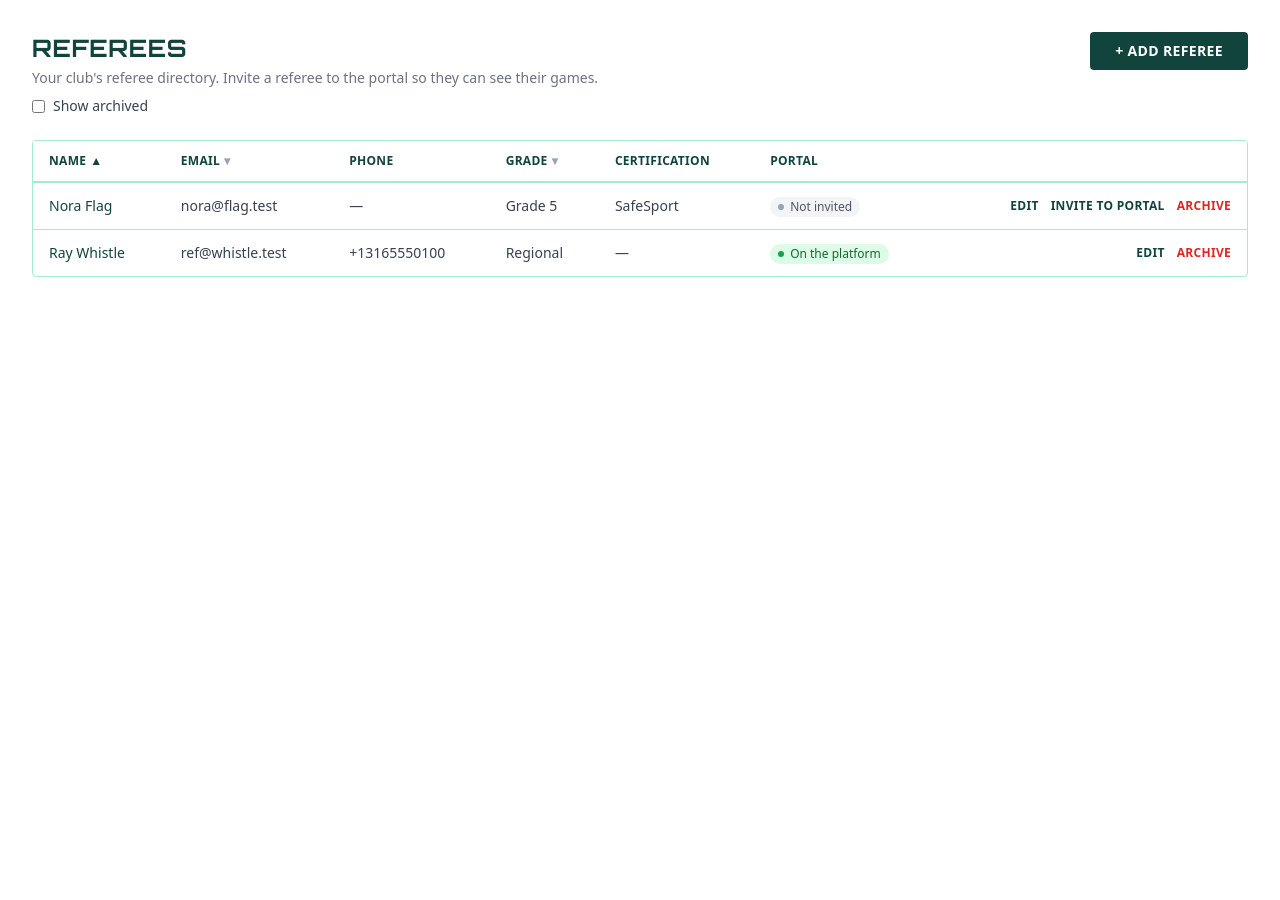
it: Referees directory page › lists the club with name, email, phone, grade and portal status, and adds a referee with an invite
This screenshot has width=1280, height=900.
Expected: the text "Ray Whistle" is shown, [49,243,125,262]
Expected: the text "ref@whistle.test" is shown, [181,243,287,262]
Click the button "+ Add Referee" at (1169, 51), box [1090,32,1248,70]
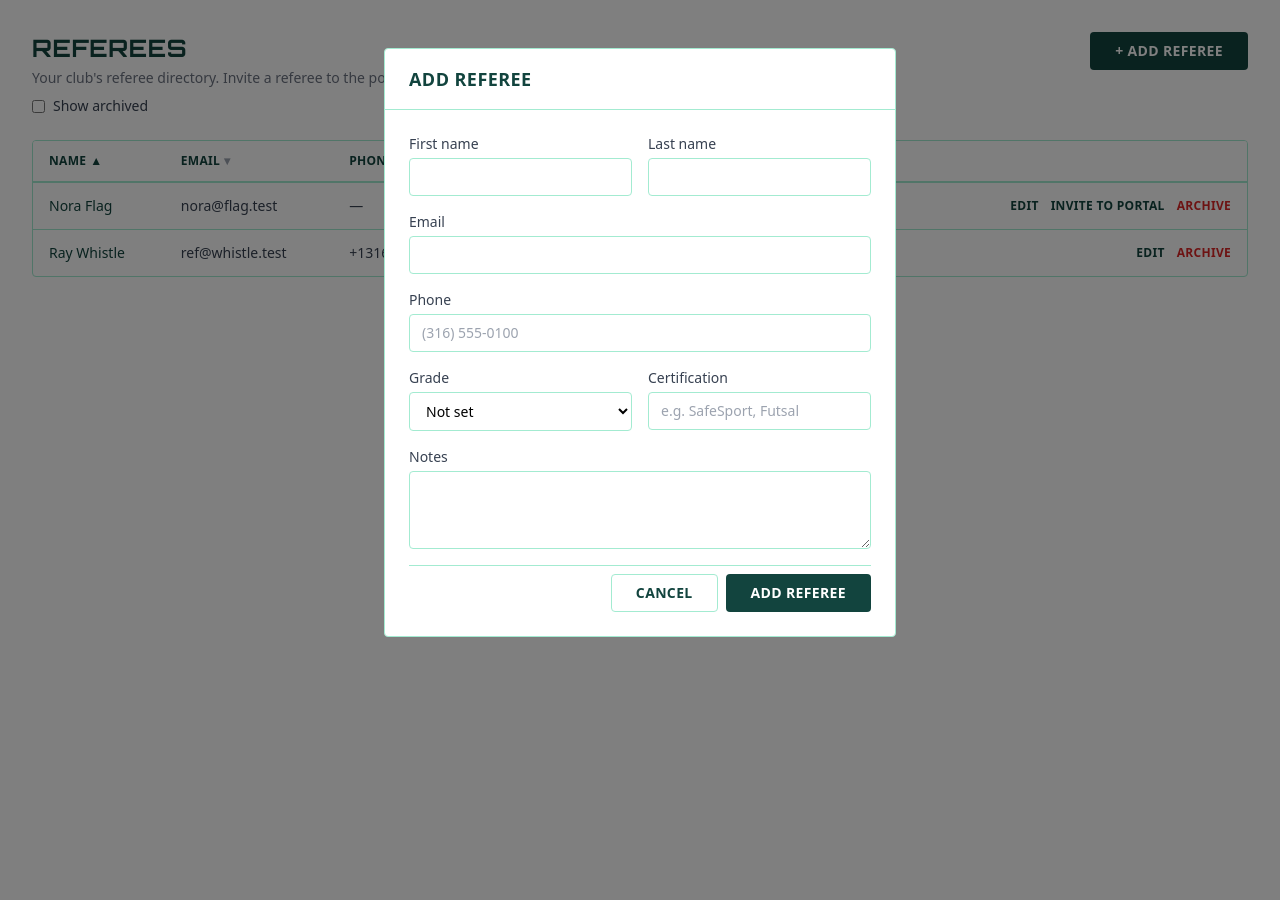
Type "Sam" into the field labelled "First name" at (520, 177), box [409,158,632,196]
Type "Line" into the field labelled "Last name" at (760, 177), box [648,158,871,196]
Type "sam@line.test" into the field labelled "Email" at (640, 255), box [409,236,871,274]
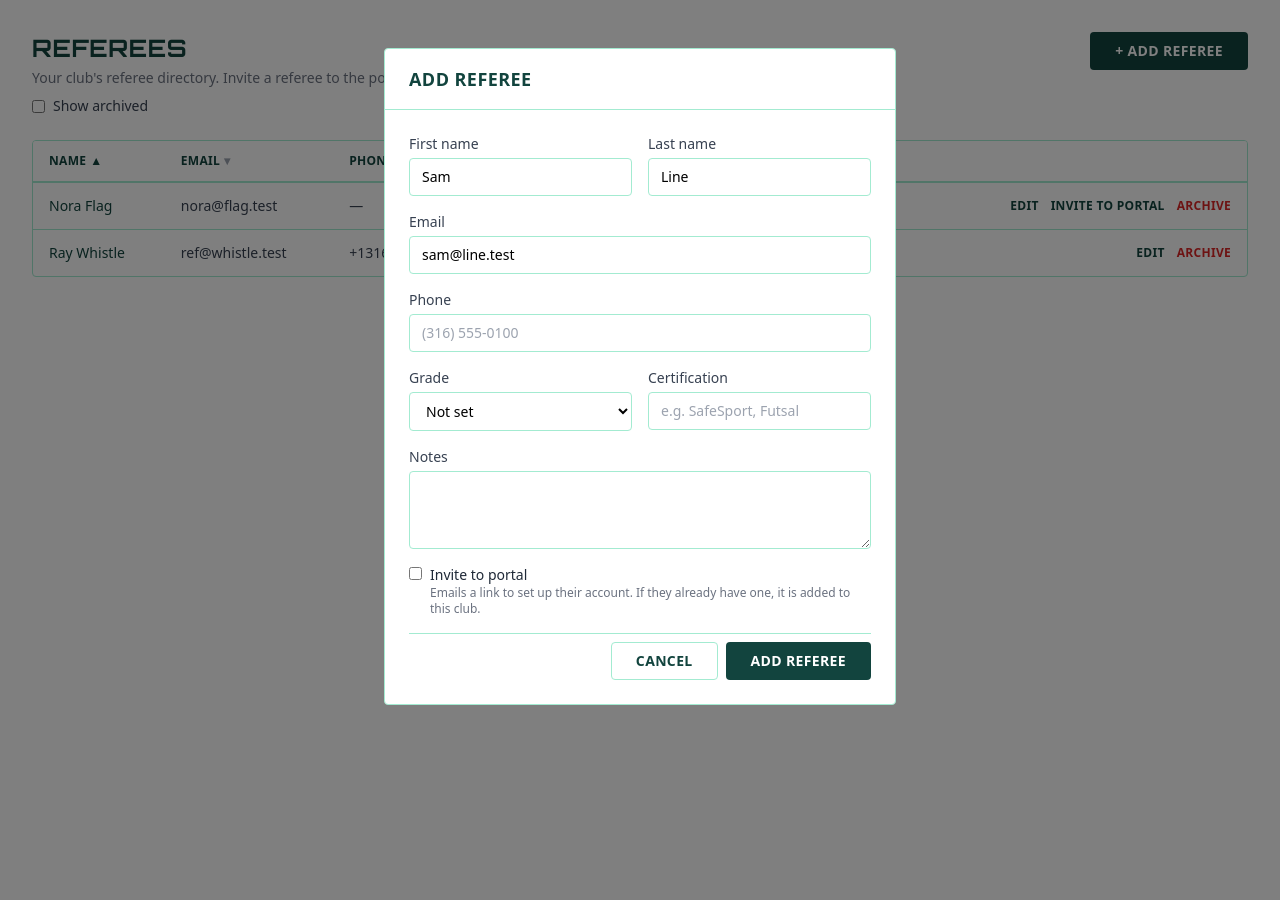
Type "(316) 555-0199" into the field labelled "Phone" at (640, 333), box [409,314,871,352]
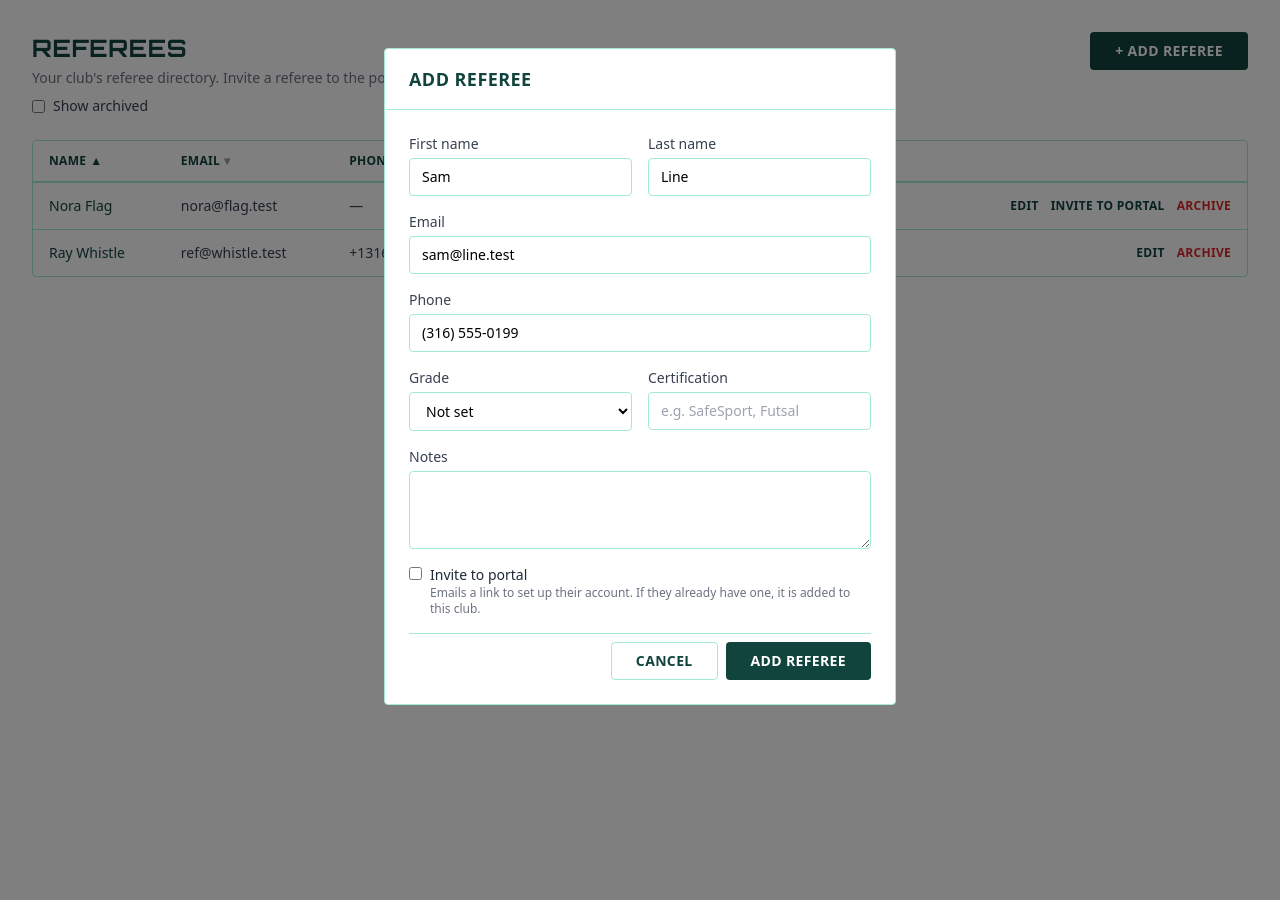
Select "Grassroots" in the dropdown labelled "Grade" at (520, 412), box [409,392,632,431]
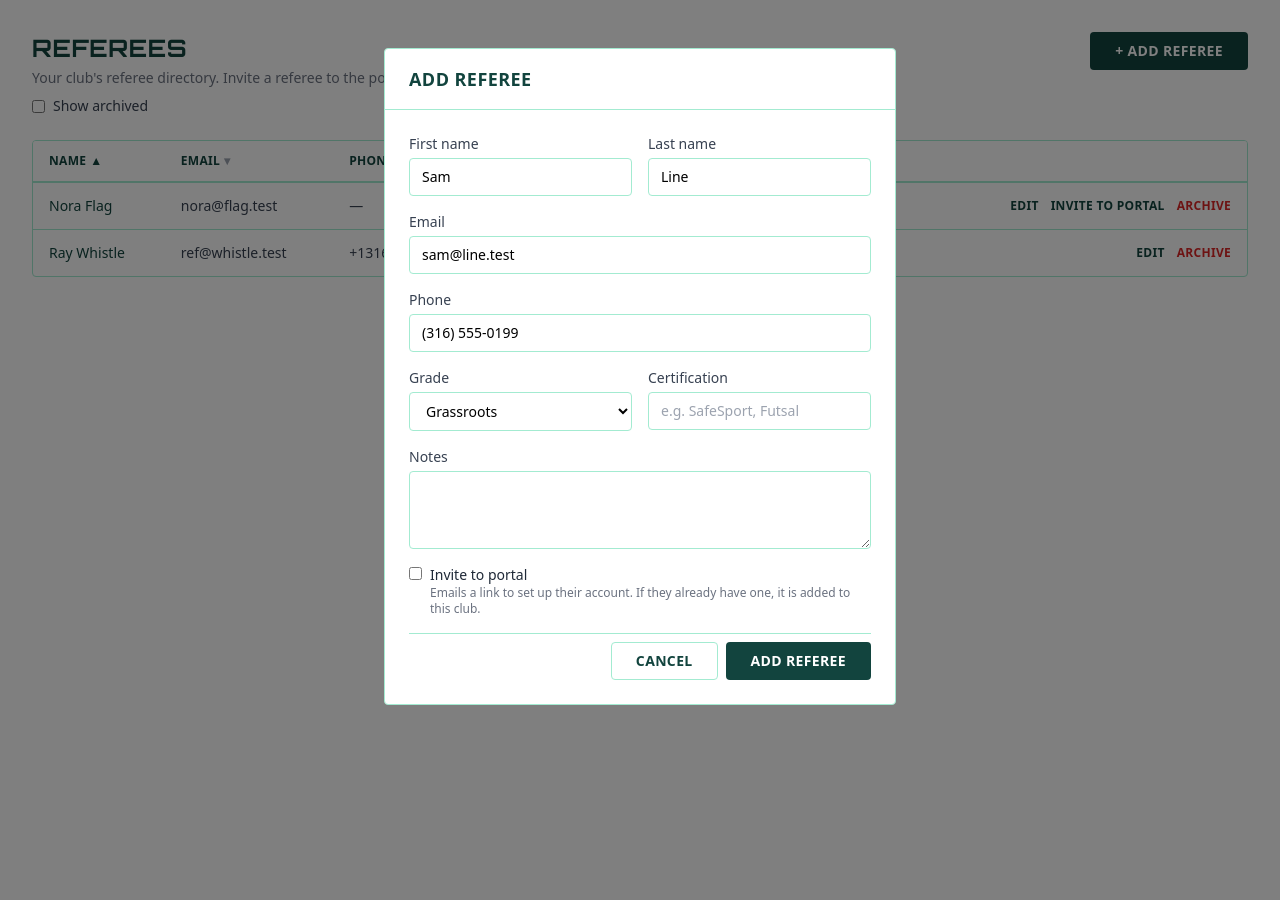
Click the checkbox labelled "Invite to portal" at (416, 574), box [409,567,422,580]
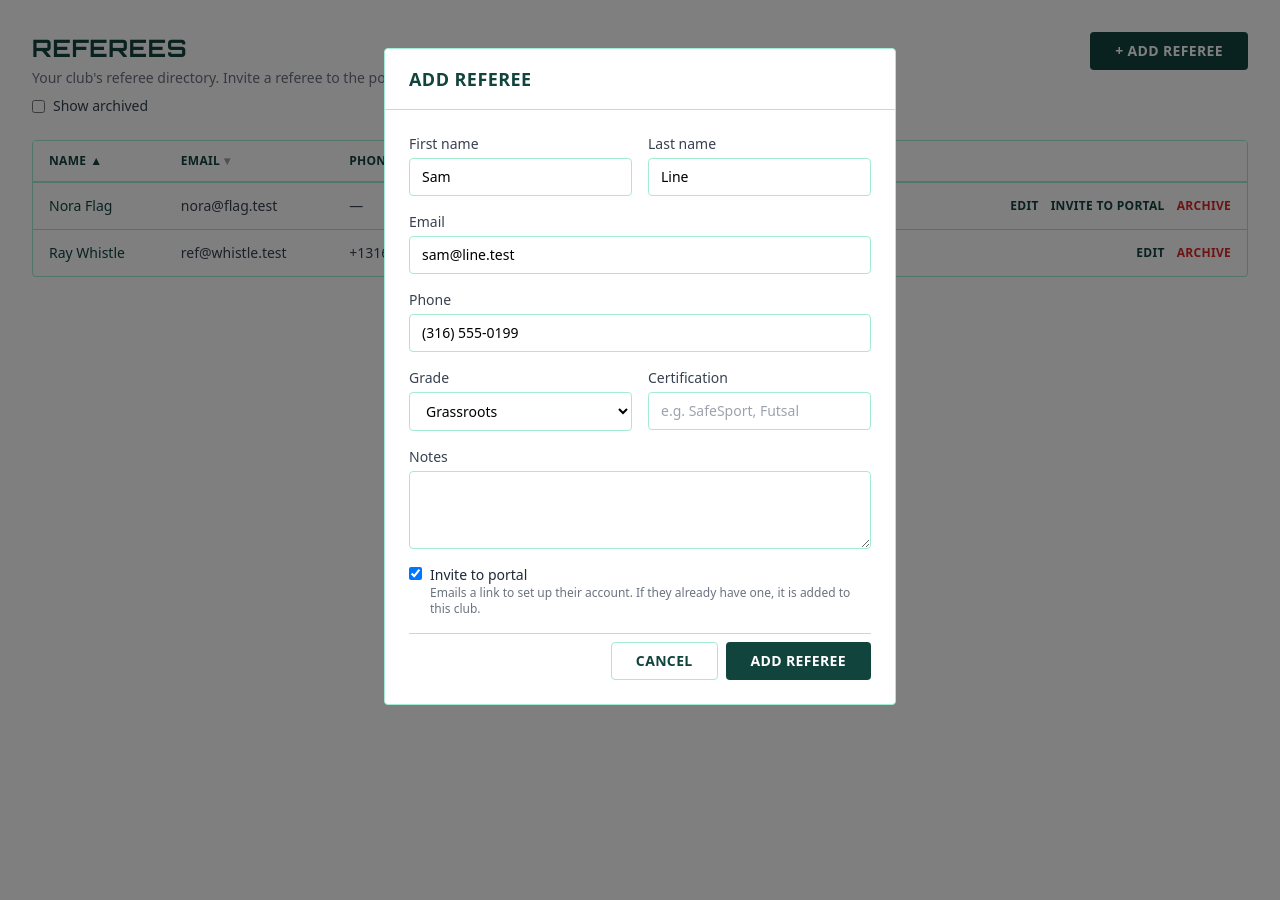
Submit the form named "Add Referee", box [385,110,895,704]
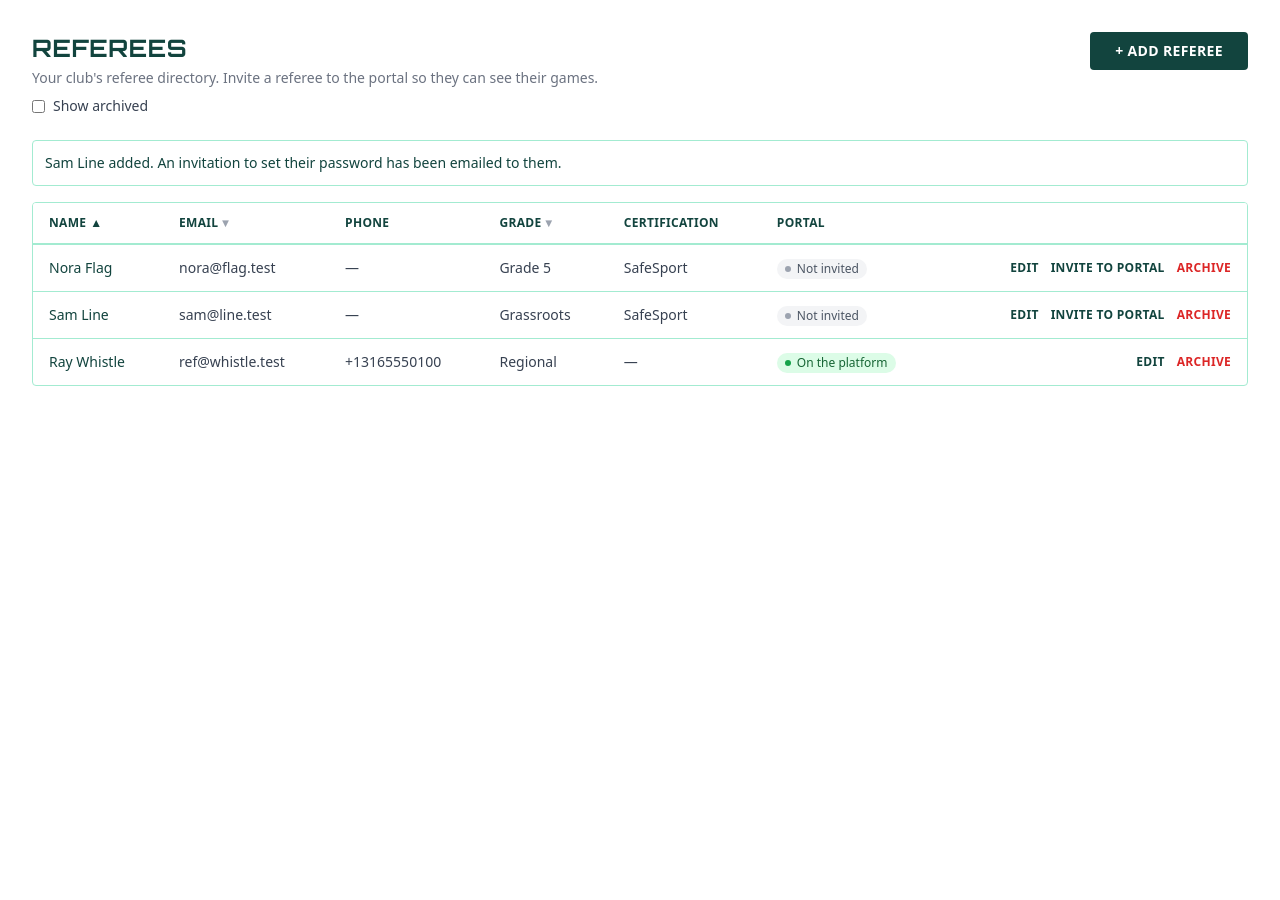
Expected: the text "Sam Line added. An invitation to set their password has been emailed to them." is shown, [32,140,1248,186]
Expected: the text "Sam Line" is shown, [49,305,109,324]
